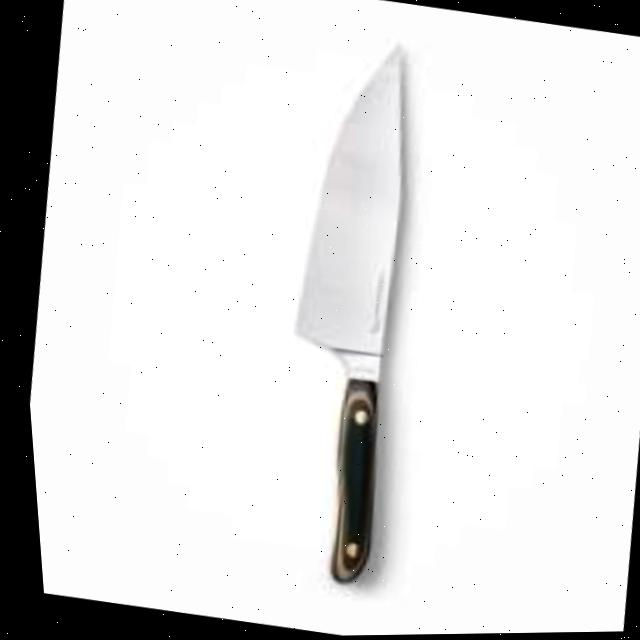Knife: (235, 29, 451, 589)
